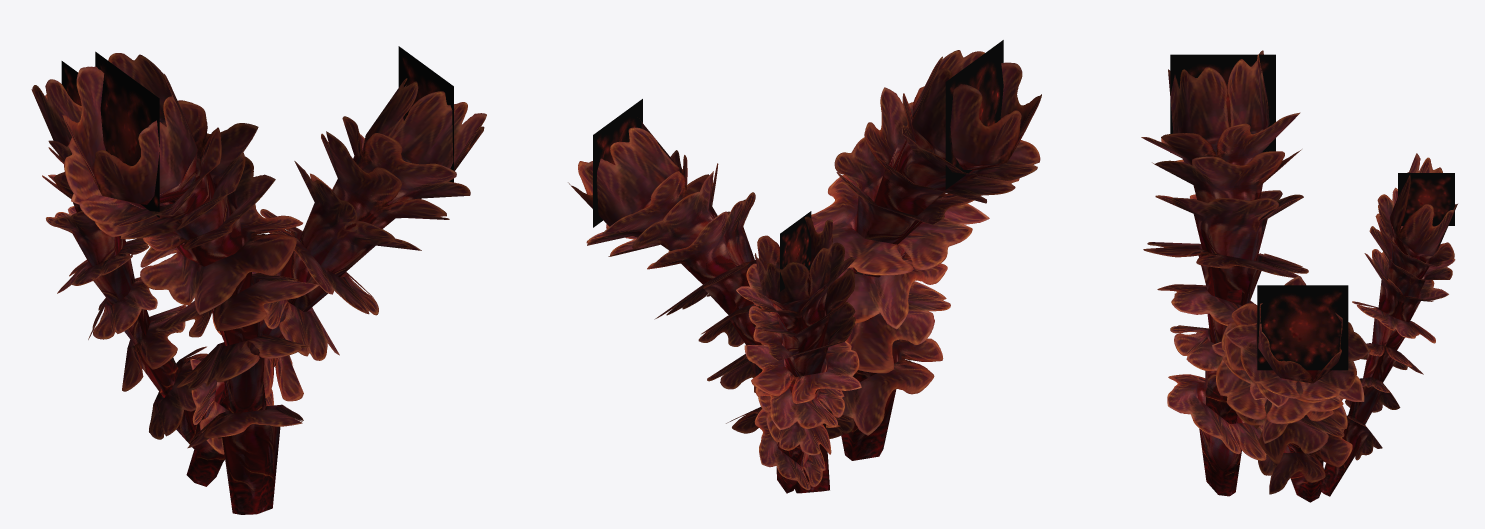
The model's file is borean_shrub_04.obj.
The picture shows the model from 3 angles, left to right: view 1: azimuth 30°, elevation 25°; view 2: azimuth 150°, elevation 25°; view 3: azimuth 270°, elevation 25°; orthographic projection. The views are drawn at different scales.
Parts seen in each view (by area): view 1: Geoset0, Geoset1; view 2: Geoset0, Geoset1; view 3: Geoset0, Geoset1.
Boxes of the visible parts, x1=… form: Geoset0: x1=31, y1=53, x2=486, y2=514; Geoset1: x1=61, y1=46, x2=453, y2=217; Geoset0: x1=568, y1=50, x2=1041, y2=493; Geoset1: x1=593, y1=40, x2=1003, y2=291; Geoset0: x1=1141, y1=50, x2=1457, y2=502; Geoset1: x1=1170, y1=54, x2=1454, y2=370.
Bounding box in the file's own units: 2.02 × 1.96 × 1.51.
1 material, 1 textured.
